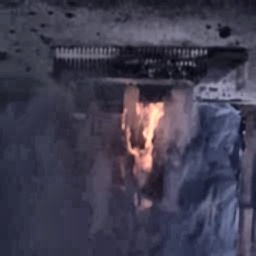fire: (121, 92, 165, 184)
